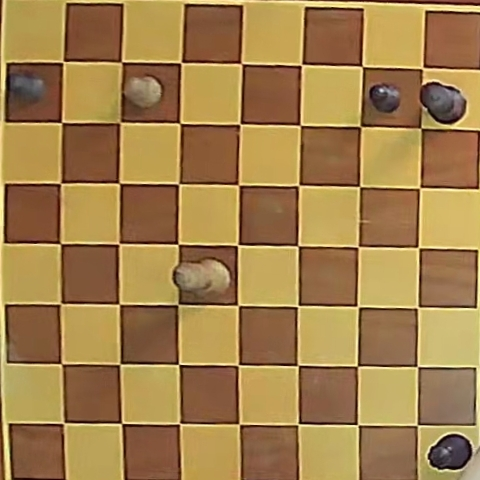black-king: (420, 82, 466, 124)
black-pawn: (9, 71, 47, 103), (370, 84, 401, 113)
black-queen: (427, 434, 471, 472)
white-king: (175, 259, 231, 296)
white-pawn: (124, 76, 162, 108)
